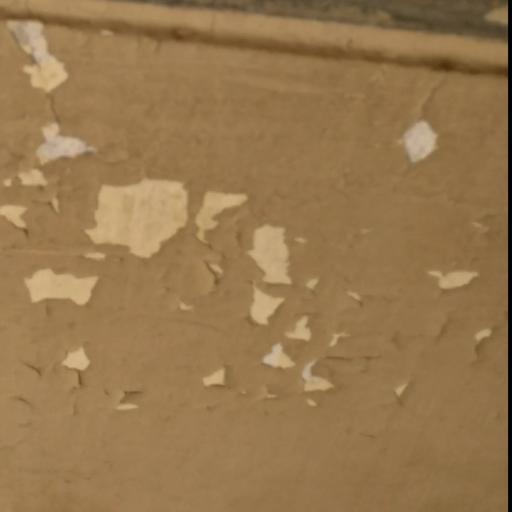peeling: (0, 0, 360, 425), (380, 243, 512, 433), (387, 98, 470, 172)
